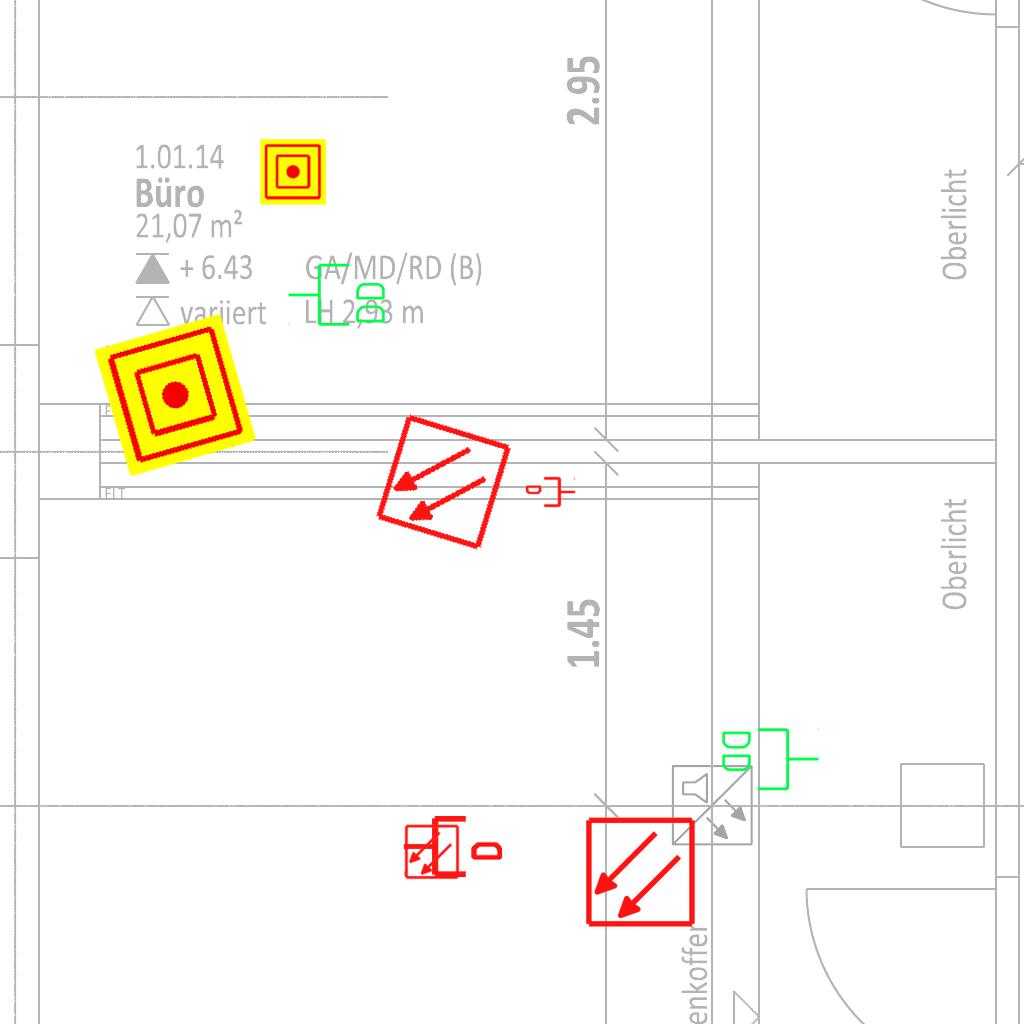Datenanschluss_einfach: (402, 812, 502, 881), (526, 475, 576, 509)
Datenanschluss_zweifach: (286, 261, 389, 330), (718, 724, 821, 793)
NAM-Nichtautomatischer_Melder: (93, 313, 257, 477), (260, 139, 326, 205)
RMO_Rauchmelder_optischer: (372, 411, 515, 554), (584, 816, 697, 929), (404, 824, 460, 880)
